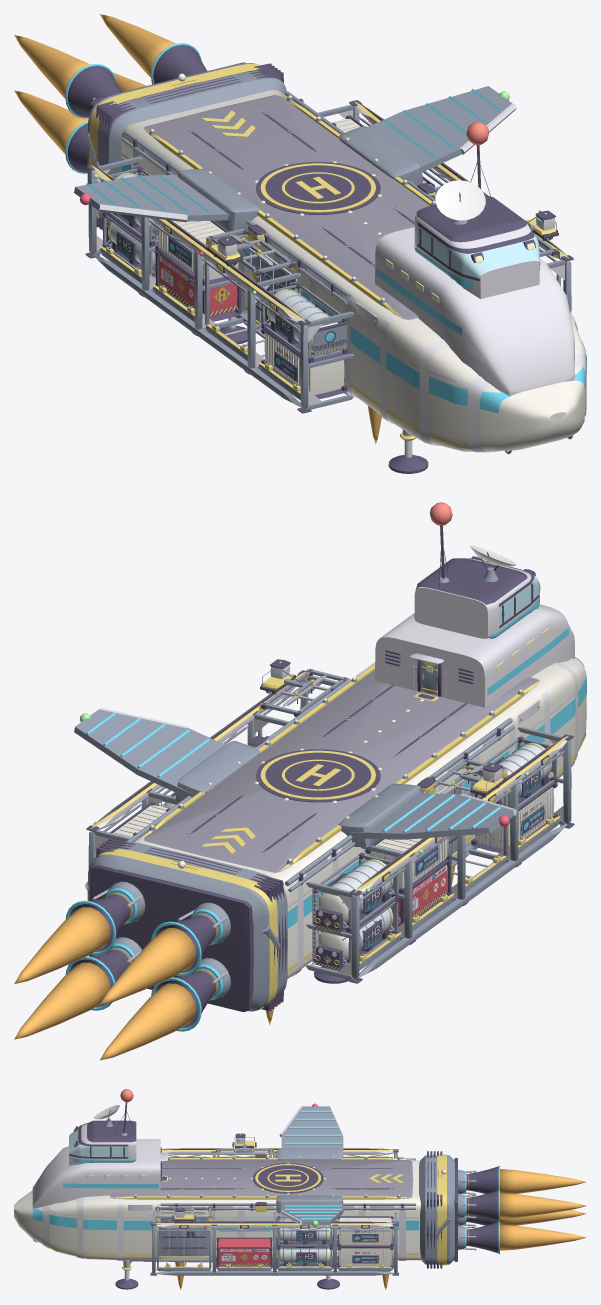
Rendered from ships_A.glb.
3 renders of one model, top to bottom at view 1: azimuth 30°, elevation 25°; view 2: azimuth 150°, elevation 25°; view 3: azimuth 270°, elevation 25°, orthographic. The views are drawn at different scales.
Visible parts, largest first — view 1: f_hull, f_deck, f_bridgeLo, f_rad1, f_thrustFrame, f_padDisc, f_rad-1, f_pilotHouse, f_belt, f_pilotRoof, f_pilotGlass, f_radRoot1 (+31 smaller); view 2: f_deck, f_bridgeLo, f_hull, f_heatShield, f_thrustFrame, f_rad1, f_rad-1, f_padDisc, f_pilotHouse, f_plume2_flame, f_plume1_flame, f_plume0_flame (+26 smaller); view 3: f_hull, f_deck, f_bridgeLo, f_thrustFrame, f_rad-1, f_belt, f_padDisc, f_plume1_flame, f_plume3_flame, f_plume0_flame, f_e13plate, f_railLow1 (+37 smaller).
Boxes of the visible parts, <box> form: f_hull: <box>121,89,586,451</box>; f_deck: <box>144,95,429,319</box>; f_bridgeLo: <box>375,227,574,396</box>; f_rad1: <box>368,86,512,172</box>; f_thrustFrame: <box>87,63,286,223</box>; f_padDisc: <box>256,162,380,214</box>; f_rad-1: <box>74,174,228,221</box>; f_pilotHouse: <box>414,213,539,298</box>; f_belt: <box>121,159,586,413</box>; f_pilotRoof: <box>416,195,527,242</box>; f_pilotGlass: <box>417,225,540,278</box>; f_radRoot1: <box>338,126,423,185</box>; f_deck: <box>144,670,539,872</box>; f_bridgeLo: <box>375,604,574,707</box>; f_hull: <box>133,657,586,978</box>; f_heatShield: <box>89,865,253,1011</box>; f_thrustFrame: <box>87,841,287,1011</box>; f_rad1: <box>74,709,225,797</box>; f_rad-1: <box>347,793,514,839</box>; f_padDisc: <box>256,749,380,802</box>; f_pilotHouse: <box>414,559,539,638</box>; f_plume2_flame: <box>100,983,195,1060</box>; f_plume1_flame: <box>14,907,110,983</box>; f_plume0_flame: <box>100,928,195,1004</box>; f_hull: <box>14,1160,421,1260</box>; f_deck: <box>110,1160,413,1199</box>; f_bridgeLo: <box>32,1139,160,1207</box>; f_thrustFrame: <box>419,1155,454,1264</box>; f_rad-1: <box>281,1106,343,1157</box>; f_belt: <box>32,1207,419,1230</box>; f_padDisc: <box>252,1163,323,1193</box>; f_plume1_flame: <box>500,1193,586,1218</box>; f_plume3_flame: <box>500,1224,586,1250</box>; f_plume0_flame: <box>500,1169,586,1193</box>; f_e13plate: <box>158,1218,209,1256</box>; f_railLow1: <box>152,1271,394,1275</box>.
Bounding box in the file's own units: 42.02 × 32.22 × 85.25.
